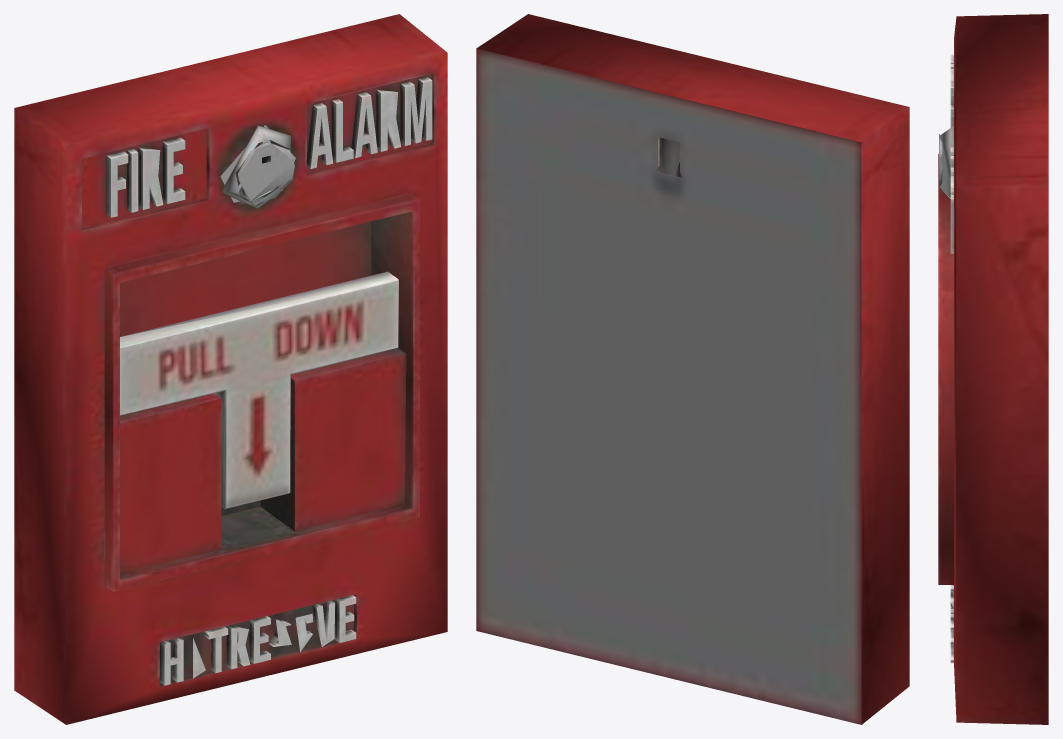
File: fire_alarm.glb
3 views of the same model, side by side, from view 1: azimuth 30°, elevation 25°; view 2: azimuth 150°, elevation 25°; view 3: azimuth 270°, elevation 25° (orthographic). The views are drawn at different scales.
Parts seen in each view (by area): view 1: fire_alarm; view 2: fire_alarm; view 3: fire_alarm.
Boxes of the visible parts, x1,y1,x2,y2 form: fire_alarm: (14, 14, 447, 724); fire_alarm: (476, 14, 909, 724); fire_alarm: (938, 14, 1048, 724).
Bounding box in the file's own units: 0.0984 × 0.1422 × 0.0264.
Materials: 1 (1 with a texture image).
